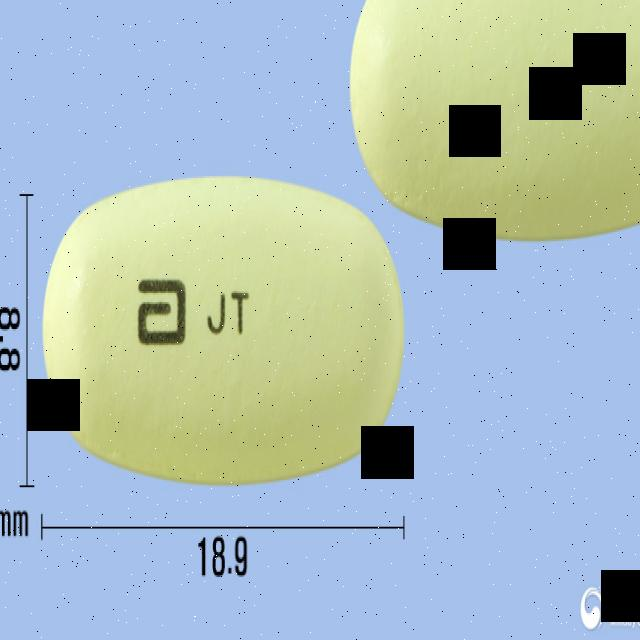Klaricid Film Coated: (41, 174, 407, 488)
